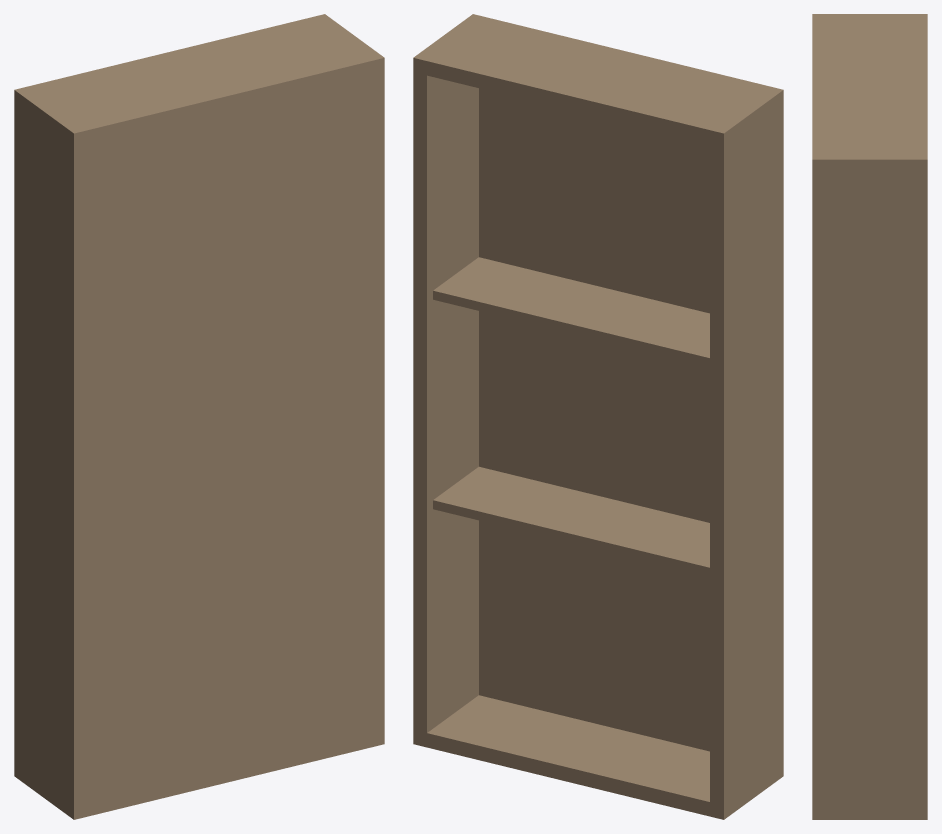
Rendered from bookcase_tall.glb.
3 renders of one model, left to right at view 1: azimuth 30°, elevation 25°; view 2: azimuth 150°, elevation 25°; view 3: azimuth 270°, elevation 25°, orthographic. The views are drawn at different scales.
Parts seen in each view (by area): view 1: body; view 2: body; view 3: body.
Boxes of the visible parts, x1,y1,x2,y2 form: body: (14, 14, 384, 819); body: (413, 14, 783, 819); body: (812, 14, 927, 819).
Size of the model in its own units: 0.9 by 1.9 by 0.3.
